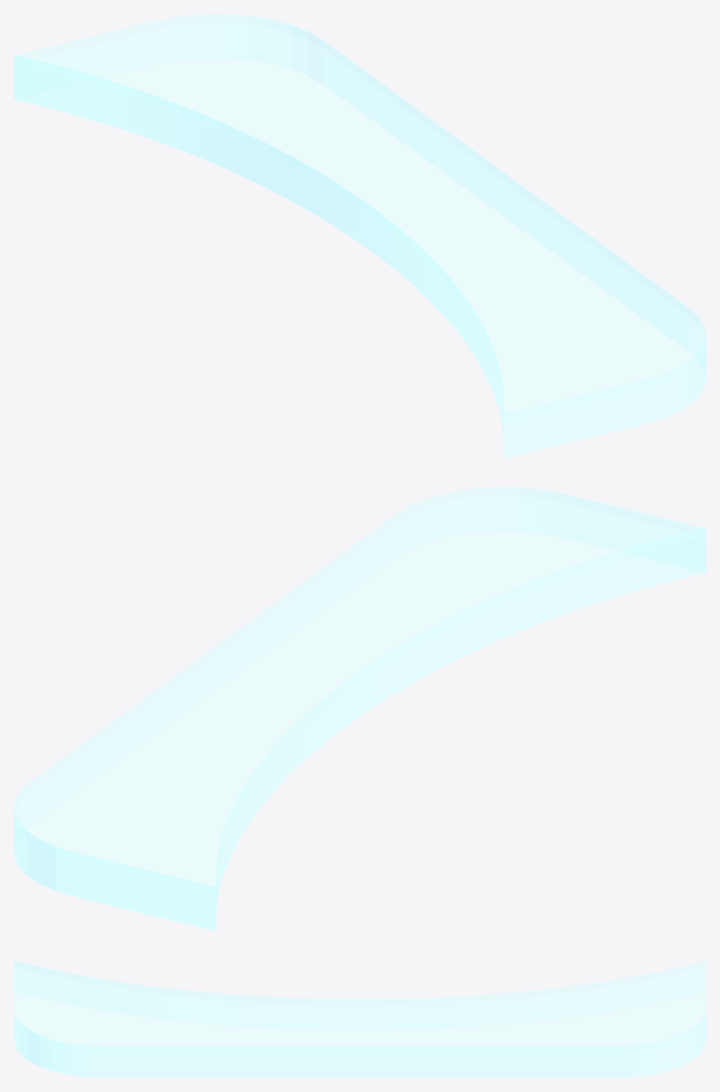
The model's file is Main Building.glb.
3 views of the same model, one above another, from view 1: azimuth 30°, elevation 25°; view 2: azimuth 150°, elevation 25°; view 3: azimuth 270°, elevation 25° (orthographic). The views are drawn at different scales.
Parts seen in each view (by area): view 1: debug_view; view 2: debug_view; view 3: debug_view.
Part boxes in pixels (left/top/right/bottom): debug_view: left=14, top=14, right=705, bottom=458; debug_view: left=14, top=487, right=705, bottom=931; debug_view: left=14, top=960, right=705, bottom=1077.
Size of the model in its own units: 52.5 by 9.22 by 180.
